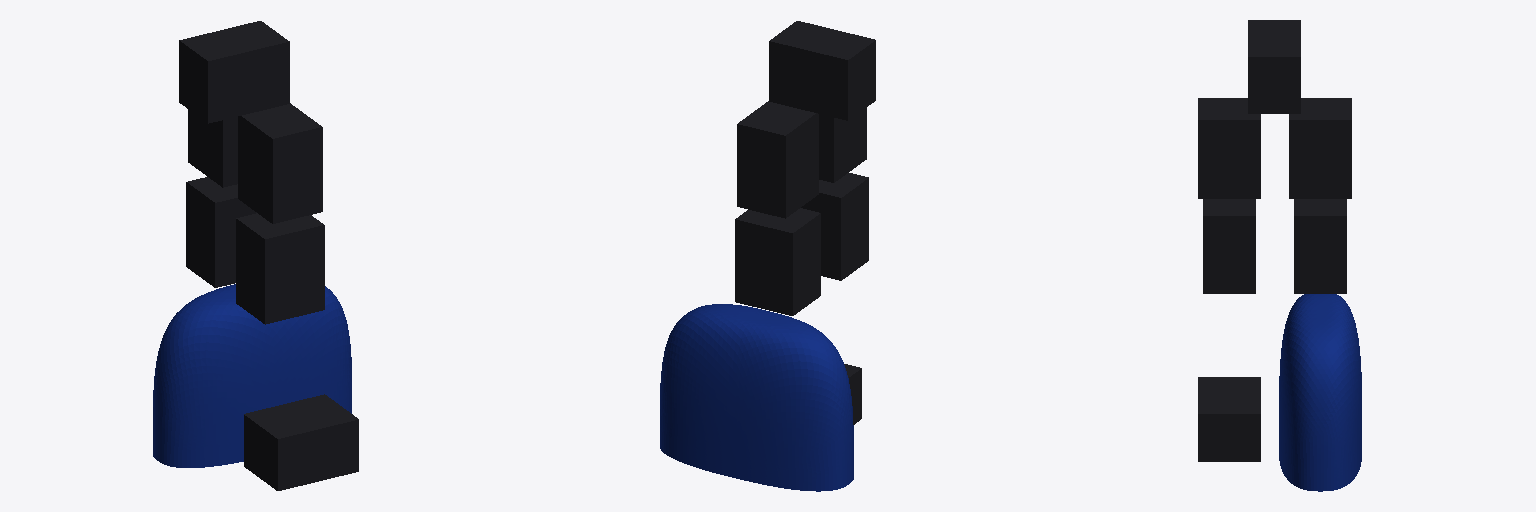
URDF robot description (haetburi):
<?xml version="1.0"?>
<!-- Haetburi biped - generated by tools/build_model.py, do not edit by hand -->
<robot name="haetburi">
  <mujoco>
    <compiler meshdir="." balanceinertia="true" discardvisual="false" strippath="false" fusestatic="false"/>
  </mujoco>
  <material name="shell"><color rgba="0.106 0.216 0.541 1"/></material>
  <material name="motor"><color rgba="0.15 0.15 0.17 1"/></material>
  <material name="foot"><color rgba="0.25 0.25 0.28 1"/></material>
  <link name="world"/>
  <joint name="floating_base" type="floating">
    <parent link="world"/><child link="pelvis"/>
    <origin xyz="0 0 0" rpy="0 0 0"/>
  </joint>
  <link name="pelvis">
    <inertial>
      <origin xyz="0.00765992 0.00536325 0.0101676" rpy="0 0 0"/>
      <mass value="0.623077"/>
      <inertia ixx="0.000643368" ixy="9.25266e-05" ixz="-2.02634e-06" iyy="0.000461058" iyz="1.0316e-05" izz="0.000977788"/>
    </inertial>
    <visual><origin xyz="0 0 0" rpy="0 0 0"/><geometry><mesh filename="meshes/pelvis.stl"/></geometry><material name="shell"/></visual>
    <visual><origin xyz="0 0.0245973 0.012" rpy="0 0 0"/><geometry><box size="0.0285 0.034 0.0465"/></geometry><material name="motor"/></visual>
    <visual><origin xyz="0 -0.0245973 0.012" rpy="0 0 0"/><geometry><box size="0.0285 0.034 0.0465"/></geometry><material name="motor"/></visual>
    <collision><origin xyz="-0.021074 3.58804e-05 0.00858333" rpy="0 0 0"/><geometry><box size="0.121075 0.119859 0.0566667"/></geometry></collision>
  </link>
  <link name="torso">
    <inertial>
      <origin xyz="-0.0080632 0.000513709 0.161797" rpy="0 0 0"/>
      <mass value="1.50323"/>
      <inertia ixx="0.025016" ixy="6.67603e-06" ixz="0.00131847" iyy="0.0229391" iyz="2.13903e-05" izz="0.0124843"/>
    </inertial>
    <visual><origin xyz="0 0 0" rpy="0 0 0"/><geometry><mesh filename="meshes/torso.stl"/></geometry><material name="shell"/></visual>
    <visual><origin xyz="-0.012 0 0.0175" rpy="0 0 0"/><geometry><box size="0.0465 0.0285 0.034"/></geometry><material name="motor"/></visual>
    <collision><origin xyz="-0.0221864 5.2166e-06 0.0316642" rpy="0 0 0"/><geometry><box size="0.122843 0.119977 0.0633283"/></geometry></collision>
    <collision><origin xyz="0.0385902 0.0915483 0.0381325" rpy="0 0 0"/><geometry><sphere radius="0.0579507"/></geometry></collision>
    <collision><origin xyz="0.0386898 -0.0915509 0.0316598" rpy="0 0 0"/><geometry><sphere radius="0.0618705"/></geometry></collision>
    <collision><origin xyz="-0.000345437 0.00125387 0.0927765" rpy="0 0 0"/><geometry><sphere radius="0.123215"/></geometry></collision>
    <collision><origin xyz="-0.00629357 0.00119689 0.151662" rpy="0 0 0"/><geometry><sphere radius="0.13801"/></geometry></collision>
    <collision><origin xyz="-0.0101044 0.000763982 0.210555" rpy="0 0 0"/><geometry><sphere radius="0.13749"/></geometry></collision>
    <collision><origin xyz="-0.0141337 -0.000964858 0.269446" rpy="0 0 0"/><geometry><sphere radius="0.12172"/></geometry></collision>
    <collision><origin xyz="-0.0219239 0.00343006 0.32832" rpy="0 0 0"/><geometry><sphere radius="0.0904228"/></geometry></collision>
    <collision><origin xyz="-0.0278985 -0.00418543 0.387235" rpy="0 0 0"/><geometry><sphere radius="0.0569478"/></geometry></collision>
  </link>
  <link name="leg_l">
    <inertial>
      <origin xyz="2.0291e-07 -3.08024e-14 -0.0441173" rpy="0 0 0"/>
      <mass value="0.104899"/>
      <inertia ixx="3.24782e-05" ixy="1.31698e-07" ixz="2.21371e-11" iyy="3.80977e-05" iyz="-7.87621e-16" izz="3.2293e-05"/>
    </inertial>
    <visual><origin xyz="0 0 0" rpy="0 0 0"/><geometry><mesh filename="meshes/leg_l.stl"/></geometry><material name="shell"/></visual>
    <visual><origin xyz="0 0 -0.04325" rpy="0 0 0"/><geometry><box size="0.034 0.0285 0.0465"/></geometry><material name="motor"/></visual>
    <collision><origin xyz="4.46236e-07 -5.20417e-18 -0.040625" rpy="0 0 0"/><geometry><box size="0.0459699 0.0369902 0.05675"/></geometry></collision>
  </link>
  <link name="ankle_l">
    <inertial>
      <origin xyz="0 0 -0.044125" rpy="0 0 0"/>
      <mass value="0.05"/>
      <inertia ixx="4.08878e-05" ixy="0" ixz="0" iyy="3.41169e-05" iyz="0" izz="1.01042e-05"/>
    </inertial>
  </link>
  <link name="foot_l">
    <inertial>
      <origin xyz="0.0123501 -3.5605e-18 0.00971839" rpy="0 0 0"/>
      <mass value="0.190794"/>
      <inertia ixx="0.000149974" ixy="-1.41571e-06" ixz="-2.77946e-07" iyy="0.000240631" iyz="6.34842e-21" izz="0.000160503"/>
    </inertial>
    <visual><origin xyz="0 0 0" rpy="0 0 0"/><geometry><mesh filename="meshes/foot_l.stl"/></geometry><material name="shell"/></visual>
    <visual><origin xyz="0.012 0 0" rpy="0 0 0"/><geometry><box size="0.0465 0.034 0.0285"/></geometry><material name="motor"/></visual>
    <collision><origin xyz="0 0 0" rpy="0 0 0"/><geometry><mesh filename="meshes/foot_l.stl"/></geometry></collision>
  </link>
  <link name="leg_r">
    <inertial>
      <origin xyz="-2.0291e-07 -3.07993e-14 -0.0441173" rpy="0 0 0"/>
      <mass value="0.104899"/>
      <inertia ixx="3.24782e-05" ixy="1.31698e-07" ixz="-2.21372e-11" iyy="3.80977e-05" iyz="-7.87621e-16" izz="3.2293e-05"/>
    </inertial>
    <visual><origin xyz="0 0 0" rpy="0 0 0"/><geometry><mesh filename="meshes/leg_r.stl"/></geometry><material name="shell"/></visual>
    <visual><origin xyz="0 0 -0.04325" rpy="0 0 0"/><geometry><box size="0.034 0.0285 0.0465"/></geometry><material name="motor"/></visual>
    <collision><origin xyz="-4.46236e-07 1.73472e-18 -0.040625" rpy="0 0 0"/><geometry><box size="0.0459699 0.0369902 0.05675"/></geometry></collision>
  </link>
  <link name="ankle_r">
    <inertial>
      <origin xyz="0 0 -0.044125" rpy="0 0 0"/>
      <mass value="0.05"/>
      <inertia ixx="4.08878e-05" ixy="0" ixz="0" iyy="3.41169e-05" iyz="0" izz="1.01042e-05"/>
    </inertial>
  </link>
  <link name="foot_r">
    <inertial>
      <origin xyz="0.0123501 3.56912e-18 0.00971839" rpy="0 0 0"/>
      <mass value="0.190794"/>
      <inertia ixx="0.000149974" ixy="1.41571e-06" ixz="-2.77946e-07" iyy="0.000240631" iyz="-5.51472e-21" izz="0.000160503"/>
    </inertial>
    <visual><origin xyz="0 0 0" rpy="0 0 0"/><geometry><mesh filename="meshes/foot_r.stl"/></geometry><material name="shell"/></visual>
    <visual><origin xyz="0.012 -0 0" rpy="0 0 0"/><geometry><box size="0.0465 0.034 0.0285"/></geometry><material name="motor"/></visual>
    <collision><origin xyz="0 0 0" rpy="0 0 0"/><geometry><mesh filename="meshes/foot_r.stl"/></geometry></collision>
  </link>
  <joint name="waist_yaw" type="revolute">
    <parent link="pelvis"/><child link="torso"/>
    <origin xyz="0 0 0.0369167" rpy="0 0 0"/>
    <axis xyz="0 0 1"/>
    <limit lower="-1.0472" upper="1.0472" effort="1.4" velocity="5.97"/>
    <dynamics damping="0.1" friction="0.04"/>
  </joint>
  <joint name="hip_pitch_l" type="revolute">
    <parent link="pelvis"/><child link="leg_l"/>
    <origin xyz="0 0.0245973 0" rpy="0 0 0"/>
    <axis xyz="0 1 0"/>
    <limit lower="-0.785398" upper="0.785398" effort="1.4" velocity="5.97"/>
    <dynamics damping="0.1" friction="0.04"/>
  </joint>
  <joint name="hip_pitch_r" type="revolute">
    <parent link="pelvis"/><child link="leg_r"/>
    <origin xyz="0 -0.0245973 0" rpy="0 0 0"/>
    <axis xyz="0 1 0"/>
    <limit lower="-0.785398" upper="0.785398" effort="1.4" velocity="5.97"/>
    <dynamics damping="0.1" friction="0.04"/>
  </joint>
  <joint name="ankle_roll_l" type="revolute">
    <parent link="leg_l"/><child link="ankle_l"/>
    <origin xyz="0 0 -0.05525" rpy="0 0 0"/>
    <axis xyz="1 0 0"/>
    <limit lower="-0.20944" upper="0.20944" effort="1.4" velocity="5.97"/>
    <dynamics damping="0.1" friction="0.04"/>
  </joint>
  <joint name="ankle_roll_r" type="revolute">
    <parent link="leg_r"/><child link="ankle_r"/>
    <origin xyz="0 0 -0.05525" rpy="0 0 0"/>
    <axis xyz="1 0 0"/>
    <limit lower="-0.20944" upper="0.20944" effort="1.4" velocity="5.97"/>
    <dynamics damping="0.1" friction="0.04"/>
  </joint>
  <joint name="ankle_pitch_l" type="revolute">
    <parent link="ankle_l"/><child link="foot_l"/>
    <origin xyz="0 0 -0.08825" rpy="0 0 0"/>
    <axis xyz="0 1 0"/>
    <limit lower="-0.261799" upper="0.261799" effort="1.4" velocity="5.97"/>
    <dynamics damping="0.1" friction="0.04"/>
  </joint>
  <joint name="ankle_pitch_r" type="revolute">
    <parent link="ankle_r"/><child link="foot_r"/>
    <origin xyz="0 0 -0.08825" rpy="0 0 0"/>
    <axis xyz="0 1 0"/>
    <limit lower="-0.261799" upper="0.261799" effort="1.4" velocity="5.97"/>
    <dynamics damping="0.1" friction="0.04"/>
  </joint>
</robot>

--- Render facts (derived) ---
The picture shows the robot from 3 angles, left to right: view 1: azimuth 30°, elevation 25°; view 2: azimuth 150°, elevation 25°; view 3: azimuth 270°, elevation 25°; orthographic projection.
Model haetburi with 9 links and 8 joints (7 revolute, 1 floating), rooted at world, posed all joints at 0.
Visible links, largest first — view 1: foot_l, pelvis, torso, foot_r, leg_r, leg_l; view 2: foot_l, pelvis, torso, leg_l, leg_r, foot_r; view 3: foot_l, pelvis, foot_r, leg_l, leg_r, torso.
Boxes of the visible links, <box> form: foot_l: <box>153,284,351,467</box>; pelvis: <box>188,103,322,223</box>; torso: <box>179,21,289,123</box>; foot_r: <box>244,394,358,490</box>; leg_r: <box>236,213,324,324</box>; leg_l: <box>186,177,256,287</box>; foot_l: <box>660,304,853,491</box>; pelvis: <box>737,101,866,218</box>; torso: <box>769,21,875,120</box>; leg_l: <box>735,208,820,315</box>; leg_r: <box>801,173,868,280</box>; foot_r: <box>844,364,861,424</box>; foot_l: <box>1279,294,1361,491</box>; pelvis: <box>1198,98,1351,198</box>; foot_r: <box>1198,377,1260,461</box>; leg_l: <box>1294,199,1346,293</box>; leg_r: <box>1203,199,1255,293</box>; torso: <box>1248,20,1300,113</box>.
Size in the robot's own frame: 0.1081 by 0.0887 by 0.2322 metres.
1 mesh visuals loaded from 6 distinct referenced files (1 binary STL); not drawn: 5 (reference not matched to a file when rendering).
